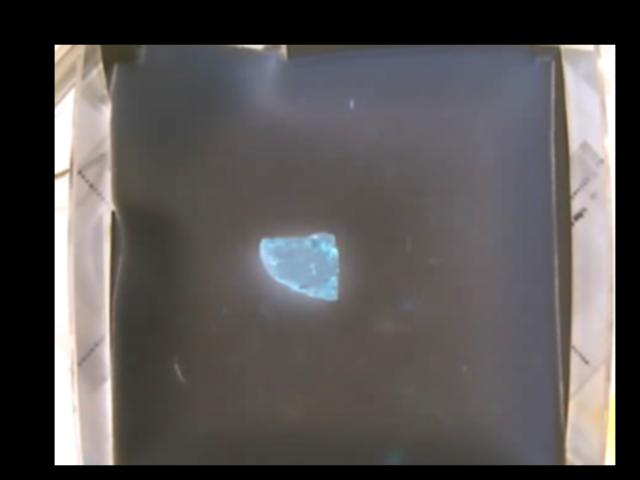Brisk: (258, 233, 337, 300)
